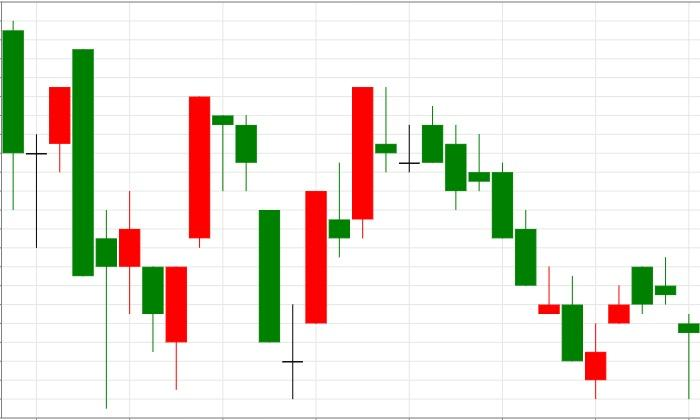bullish_engulfing_rise: (71, 48, 188, 409)
three_black_crows_fall: (165, 96, 281, 389)
